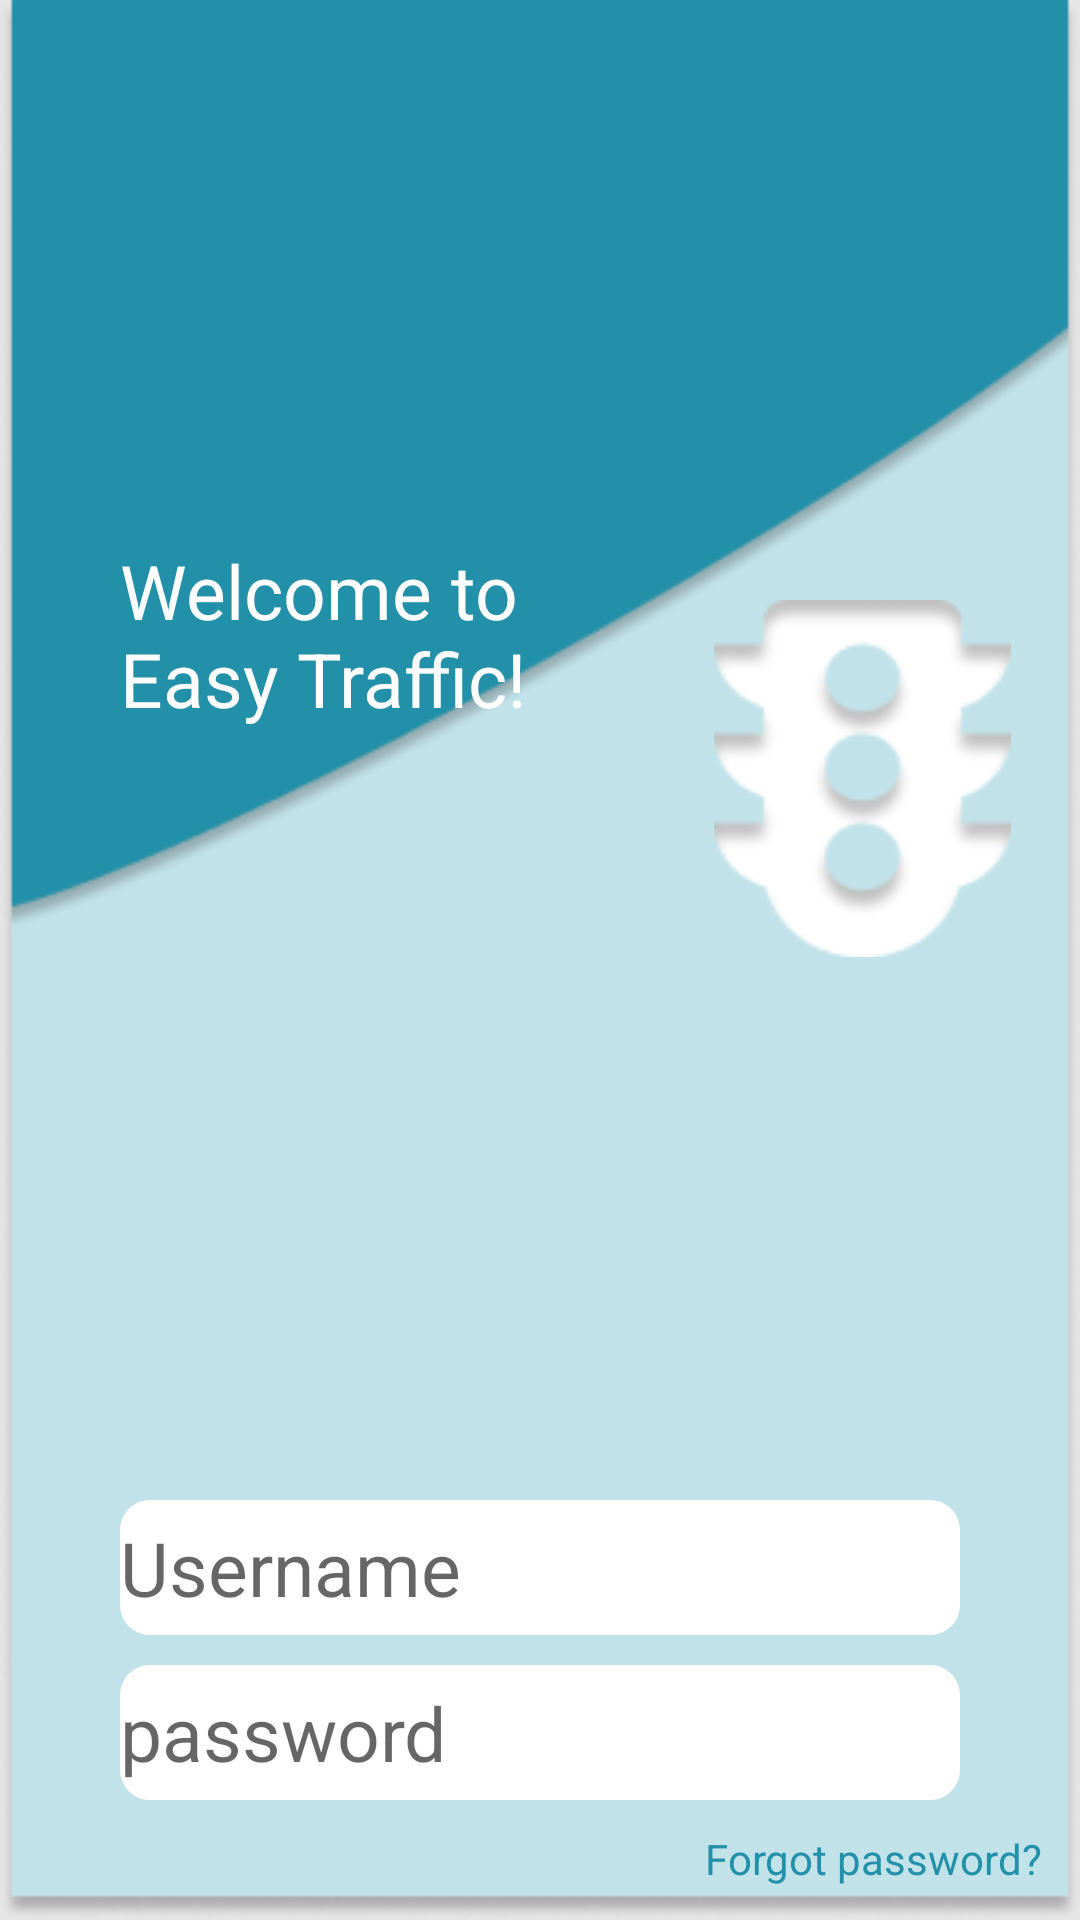

Icons on this 1080*1920 Android screen, each with the point to tap as point (x, y):
trafficlight: point (862, 778)
